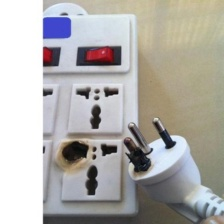three_eye_plug: (0, 2, 145, 220)
